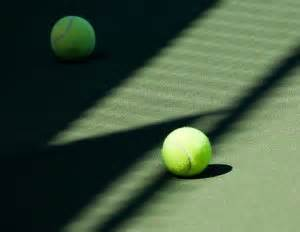tennis_ball: (161, 126, 213, 178), (49, 15, 96, 59)
